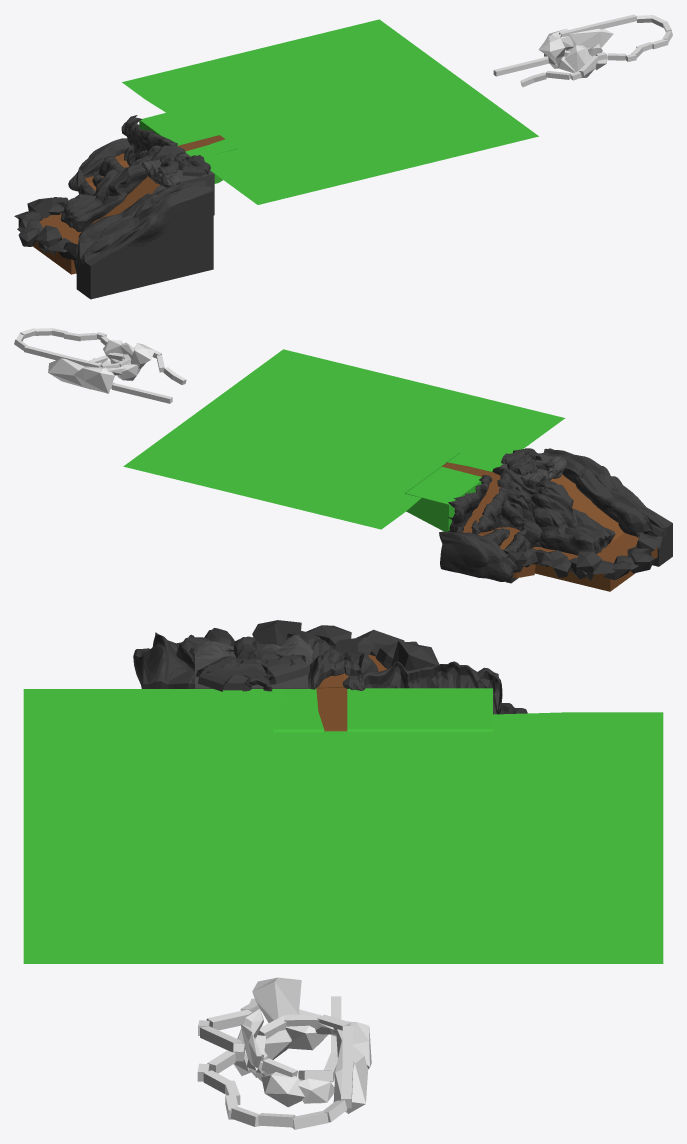
File: mapTEMP.fbx
The picture shows the model from 3 angles, top to bottom: view 1: azimuth 30°, elevation 25°; view 2: azimuth 150°, elevation 25°; view 3: azimuth 270°, elevation 25°; orthographic projection. The views are drawn at different scales.
Visible parts, largest first — view 1: Plane, Cube.045, Cube.041, Cube.023, Cube.030, Cube.025, Cube.024, Icosphere.008, Cube.040, Cube.008, Icosphere.009, Icosphere.012 (+1 smaller); view 2: Plane, Cube.045, Cube.041, Cube.025, Cube.024, Cube.030, Cube.023, Icosphere.007, Icosphere.008, Cube.026, Cube.029, Cube.040 (+4 smaller); view 3: Plane, Cube.045, Cube.041, Cube.030, Cube.023, Cube.040, Icosphere.009, Cube.032, Icosphere.008, Icosphere.002, Icosphere.022, Cube.008 (+3 smaller).
Boxes of the visible parts, x1,y1,x2,y2 form: Plane: (122, 19, 538, 204); Cube.045: (60, 115, 213, 299); Cube.041: (139, 108, 220, 145); Cube.023: (141, 153, 214, 215); Cube.030: (157, 153, 210, 176); Cube.025: (32, 216, 81, 274); Cube.024: (91, 176, 160, 224); Icosphere.008: (567, 28, 613, 51); Cube.040: (185, 139, 238, 183); Cube.008: (559, 14, 636, 36); Icosphere.009: (538, 35, 565, 66); Icosphere.012: (564, 45, 592, 71); Plane: (123, 349, 565, 529); Cube.045: (439, 448, 672, 583); Cube.041: (404, 466, 481, 531); Cube.025: (586, 533, 657, 591); Cube.024: (550, 474, 624, 544); Cube.030: (501, 448, 554, 476); Cube.023: (499, 453, 566, 488); Icosphere.007: (73, 366, 114, 393); Icosphere.008: (48, 358, 90, 389); Cube.026: (532, 547, 585, 585); Cube.029: (464, 478, 500, 532); Cube.040: (446, 453, 502, 471); Plane: (23, 689, 663, 963); Cube.045: (133, 628, 527, 714); Cube.041: (347, 688, 492, 731); Cube.030: (195, 636, 308, 691); Cube.023: (189, 635, 314, 688); Cube.040: (273, 688, 324, 732); Icosphere.009: (252, 977, 301, 1022); Cube.032: (316, 687, 347, 731); Icosphere.008: (333, 1037, 368, 1113); Icosphere.002: (261, 1072, 304, 1107); Icosphere.022: (391, 640, 438, 670); Cube.008: (341, 1026, 353, 1108).
Bounding box in the file's own units: 5285 × 905 × 2289.
